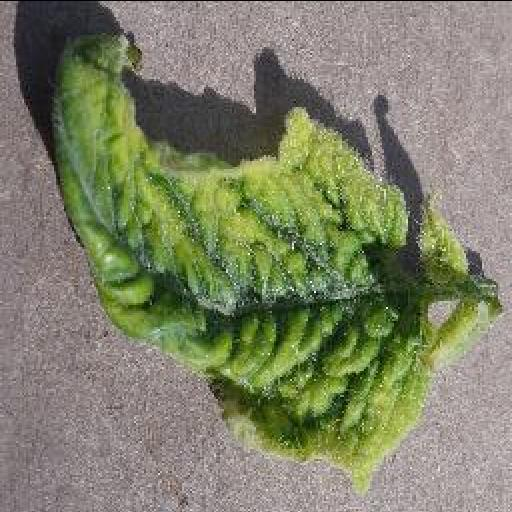disease_tomato: (50, 26, 468, 492)
